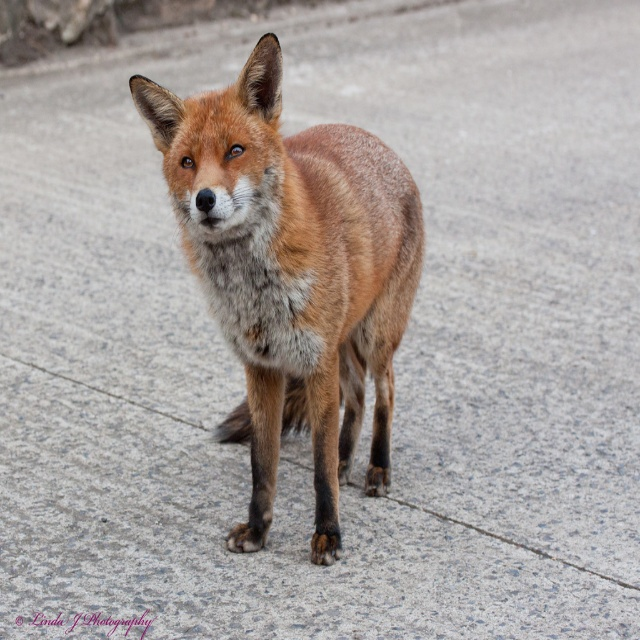Fox: (127, 32, 425, 568)
